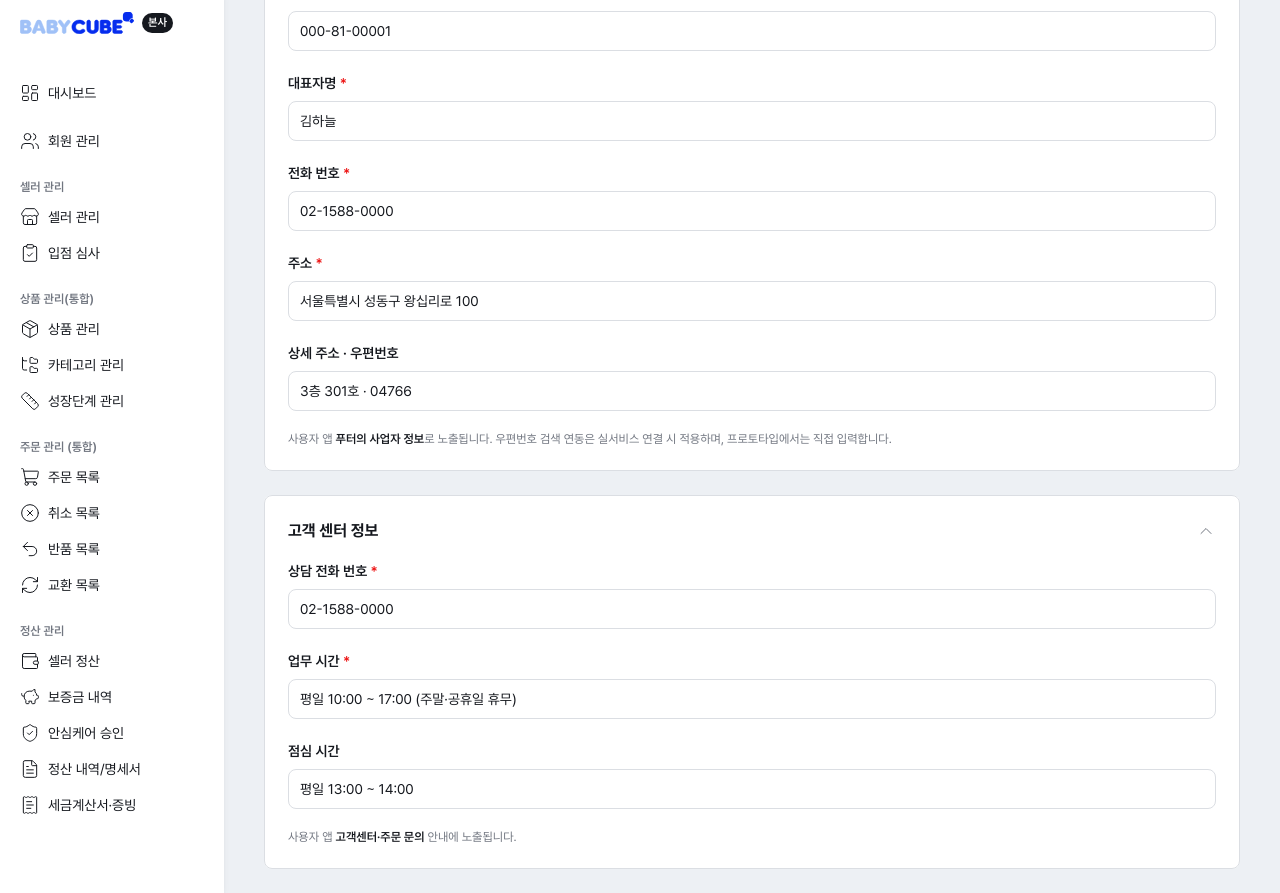
SettingsPage › 섹션 › 접었다 펴도 입력값이 남는다
The width and height of the screenshot is (1280, 893).
(page scrolled)
Replace the text in the field labelled "업무 시간" with "평일 09:00 ~ 18:00" at point(752, 699), box [300,687,1204,711]
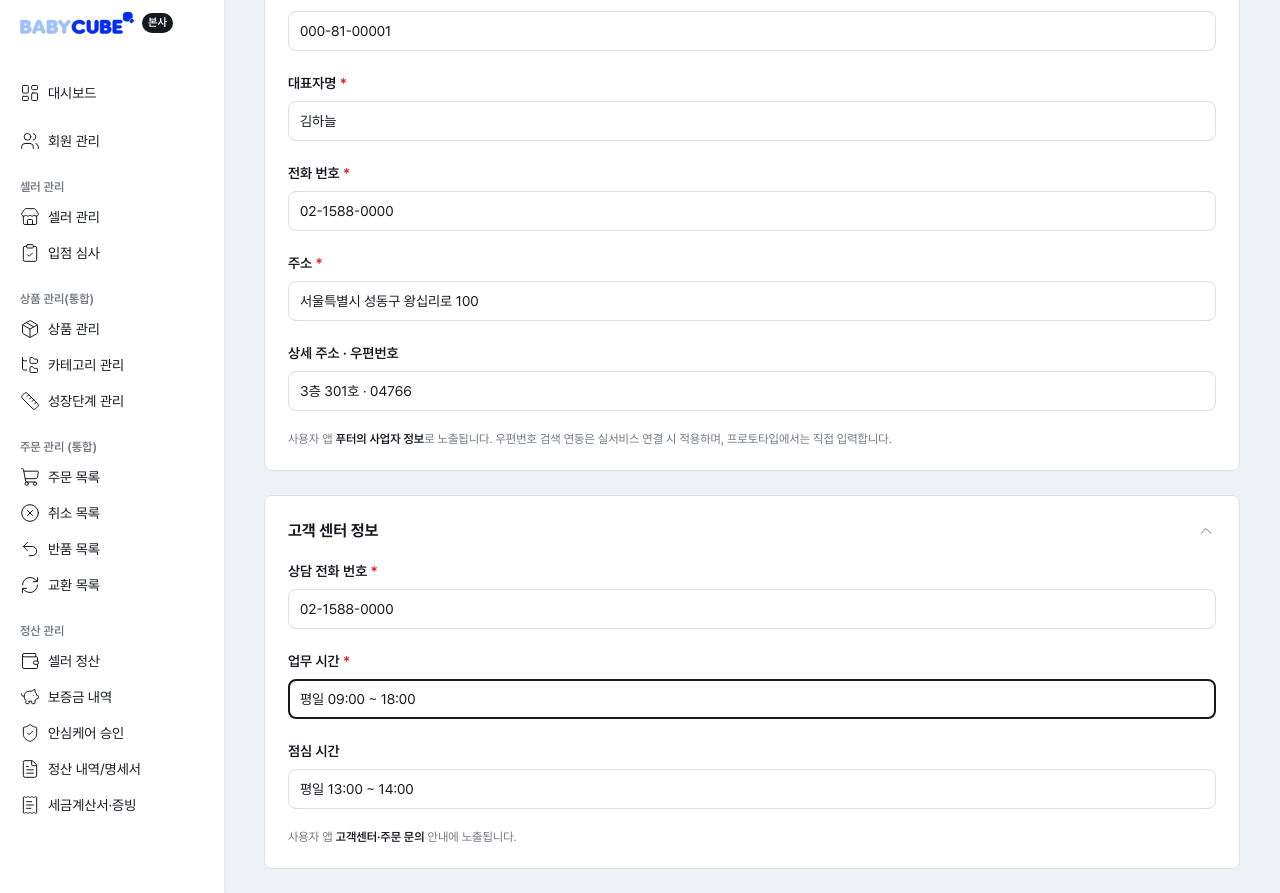
Click the button "고객 센터 정보" at point(333, 530), box [288,519,1216,543]
(page scrolled)
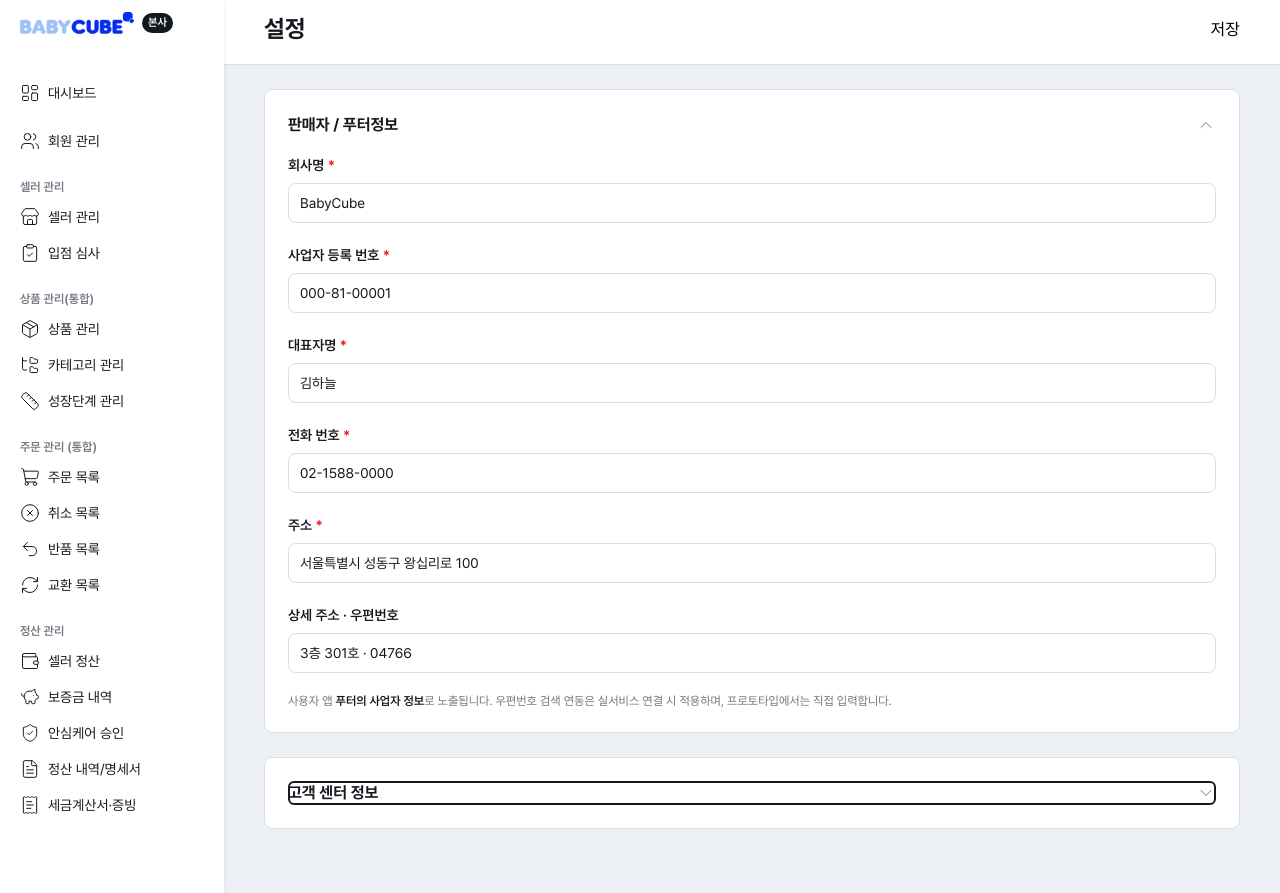
Click the button "고객 센터 정보" at point(333, 792), box [288,781,1216,805]
(page scrolled)
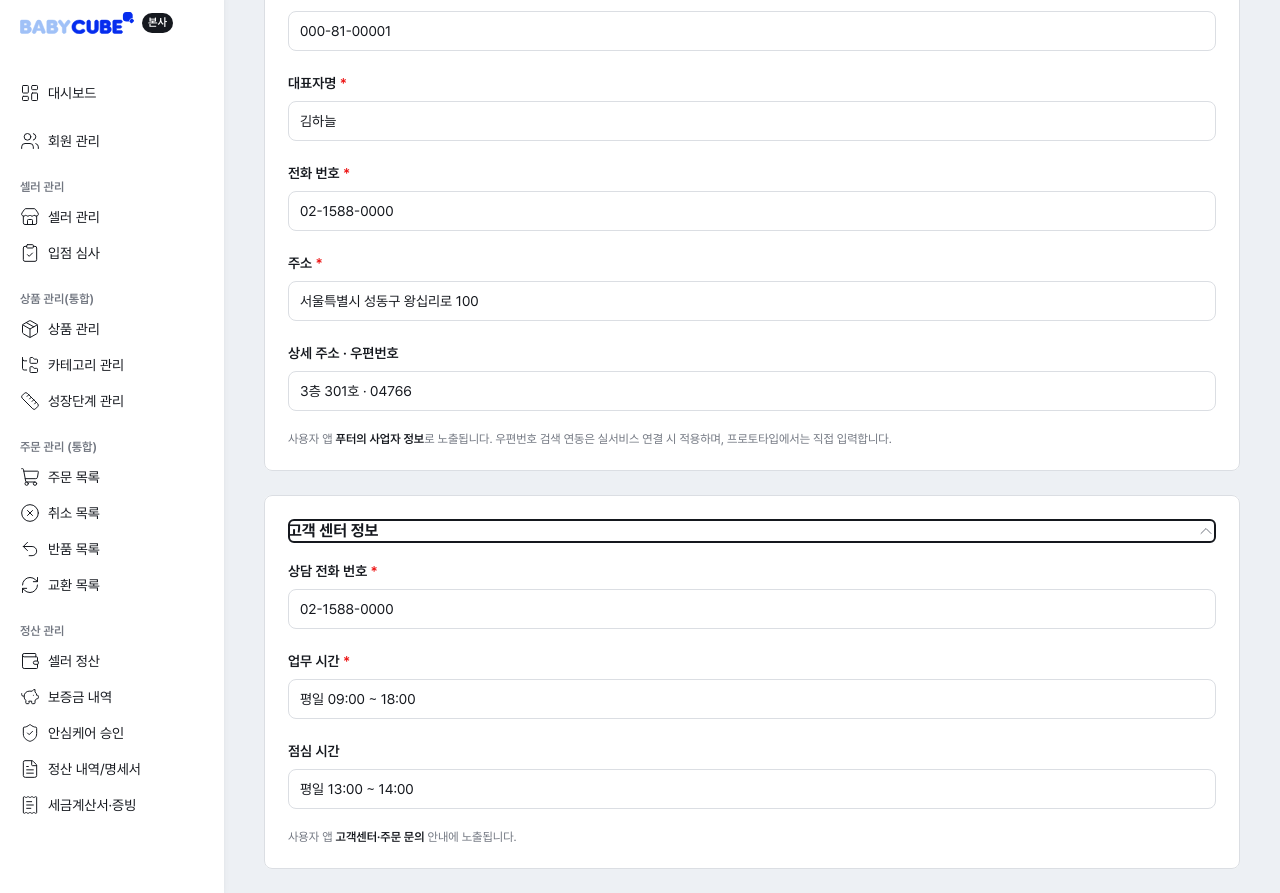
Expected: the field labelled "업무 시간" holds "평일 09:00 ~ 18:00", [300,687,1204,711]
